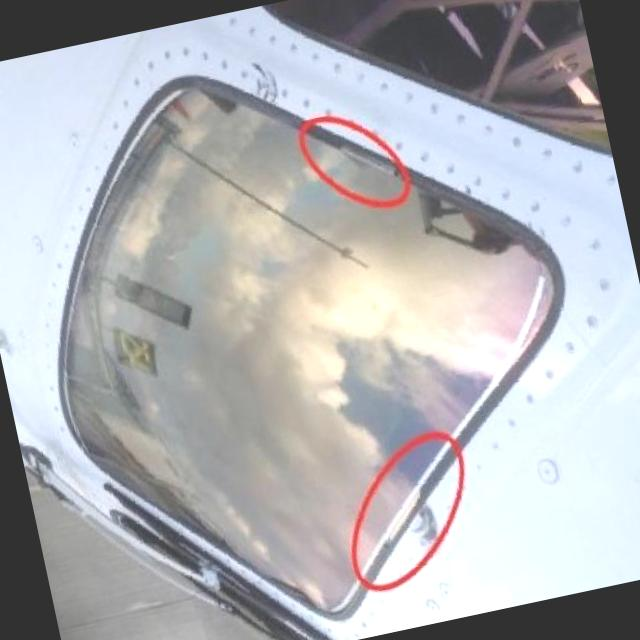crack: (248, 56, 282, 104)
